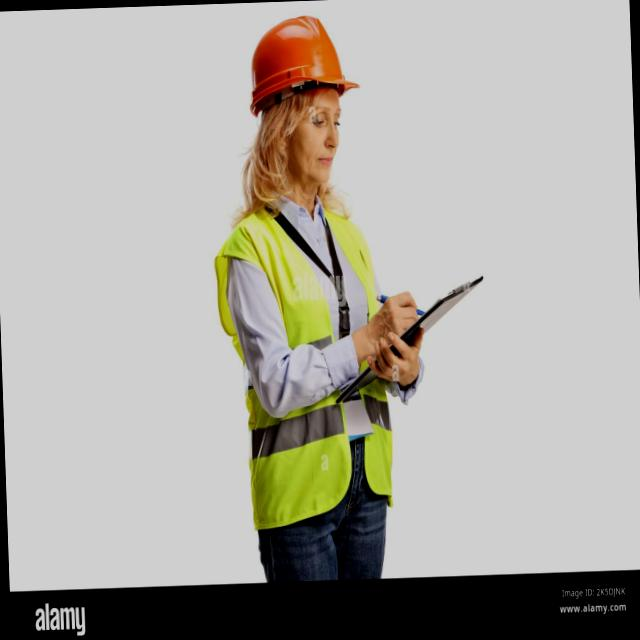helmet: (247, 5, 365, 116)
no-goggles: (293, 102, 345, 135)
vest: (215, 181, 404, 520)
